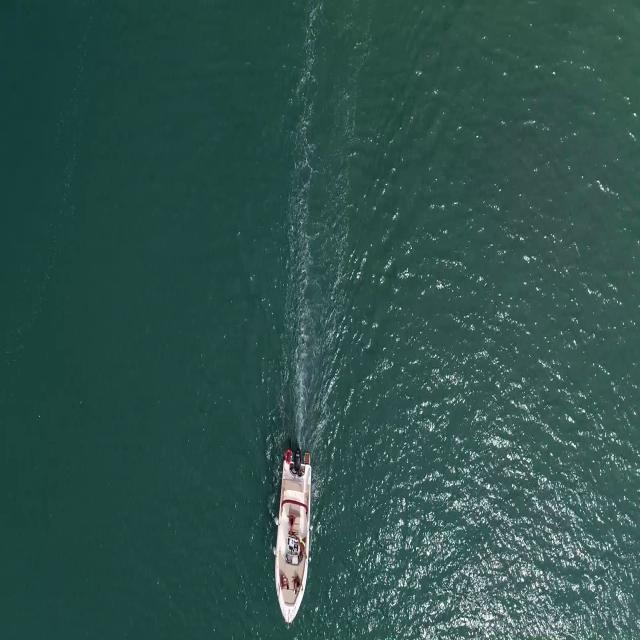boat: (272, 463, 314, 626)
life_buoy: (284, 449, 292, 462)
person: (278, 572, 290, 594), (298, 537, 309, 559), (288, 512, 298, 536), (293, 575, 303, 594)
